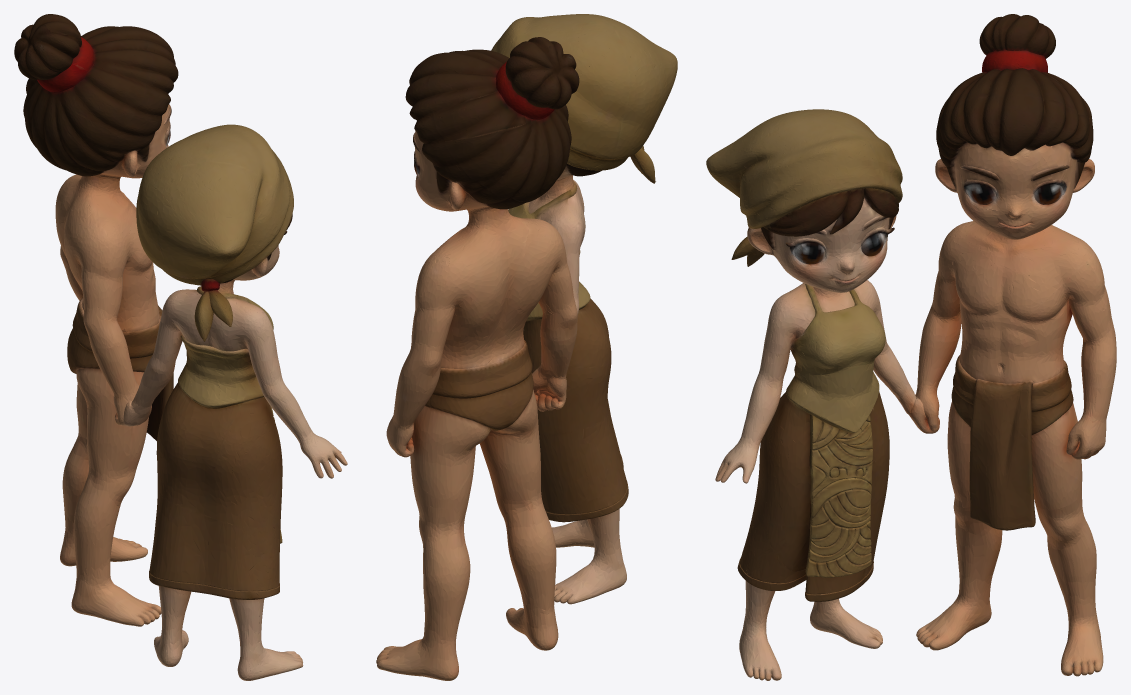
The model's file is vanlang6.glb.
3 views of the same model, side by side, from view 1: azimuth 30°, elevation 25°; view 2: azimuth 150°, elevation 25°; view 3: azimuth 270°, elevation 25° (orthographic). The views are drawn at different scales.
Parts seen in each view (by area): view 1: tripo_node_375553fd-f6a7-4fc3-afdf-cdf56965703e; view 2: tripo_node_375553fd-f6a7-4fc3-afdf-cdf56965703e; view 3: tripo_node_375553fd-f6a7-4fc3-afdf-cdf56965703e.
Boxes of the visible parts, x1,y1,x2,y2 form: tripo_node_375553fd-f6a7-4fc3-afdf-cdf56965703e: [14, 14, 347, 680]; tripo_node_375553fd-f6a7-4fc3-afdf-cdf56965703e: [376, 14, 677, 680]; tripo_node_375553fd-f6a7-4fc3-afdf-cdf56965703e: [706, 14, 1116, 680].
Bounding box in the file's own units: 0.3312 × 0.9795 × 0.6047.
Materials: 1 (1 with a texture image).
